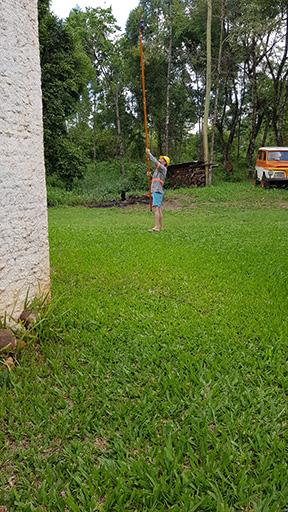Detector_Tensao_Contato: (139, 14, 147, 36)
Vara_Manobra: (139, 31, 152, 211)
